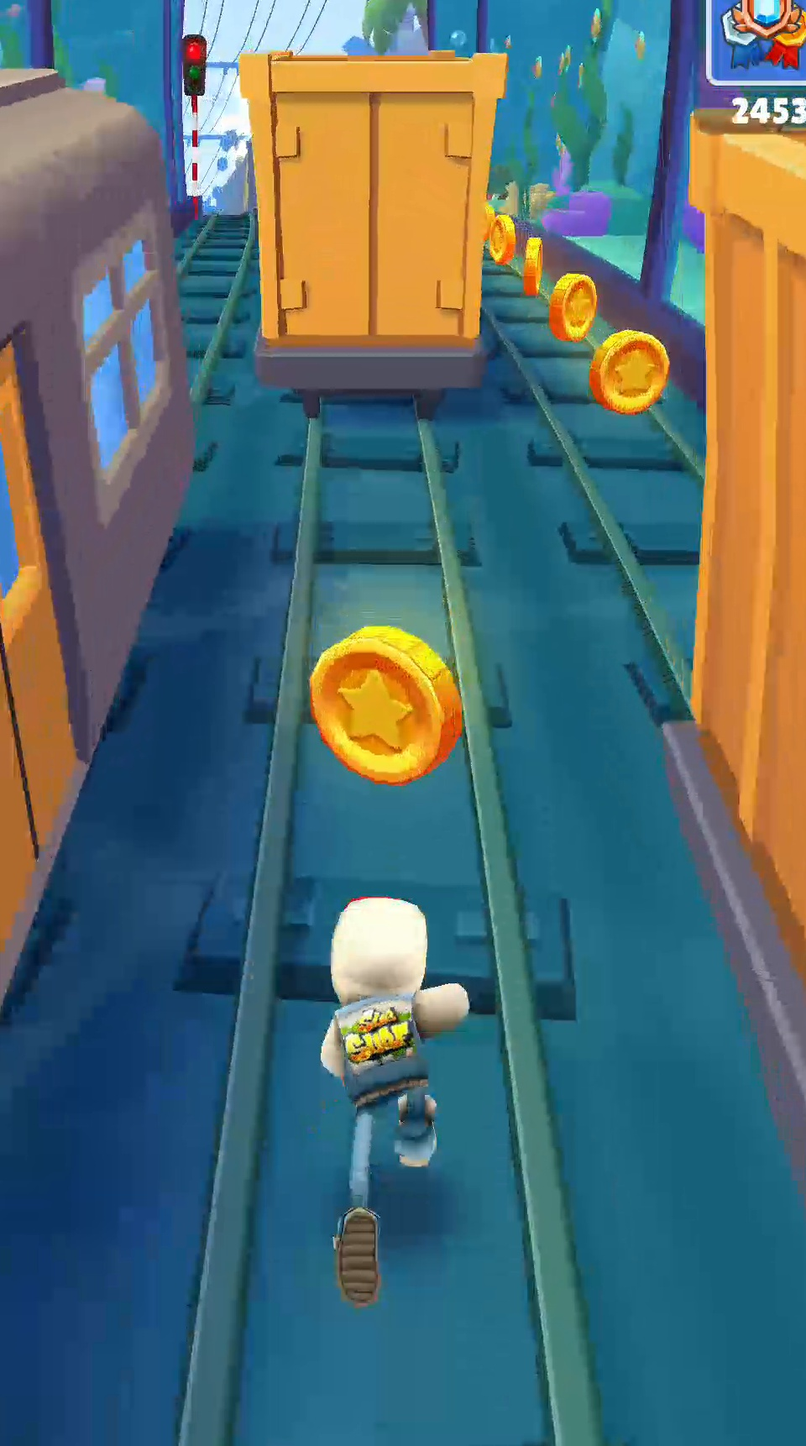train: (0, 70, 192, 999), (240, 51, 505, 417), (691, 113, 805, 933)
